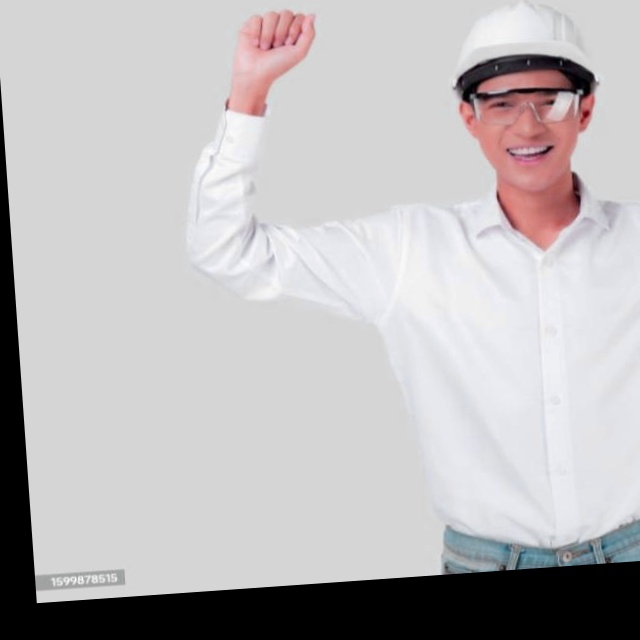Con_Casco: (440, 0, 612, 196)
Sin_Chaleco: (380, 185, 640, 574)
